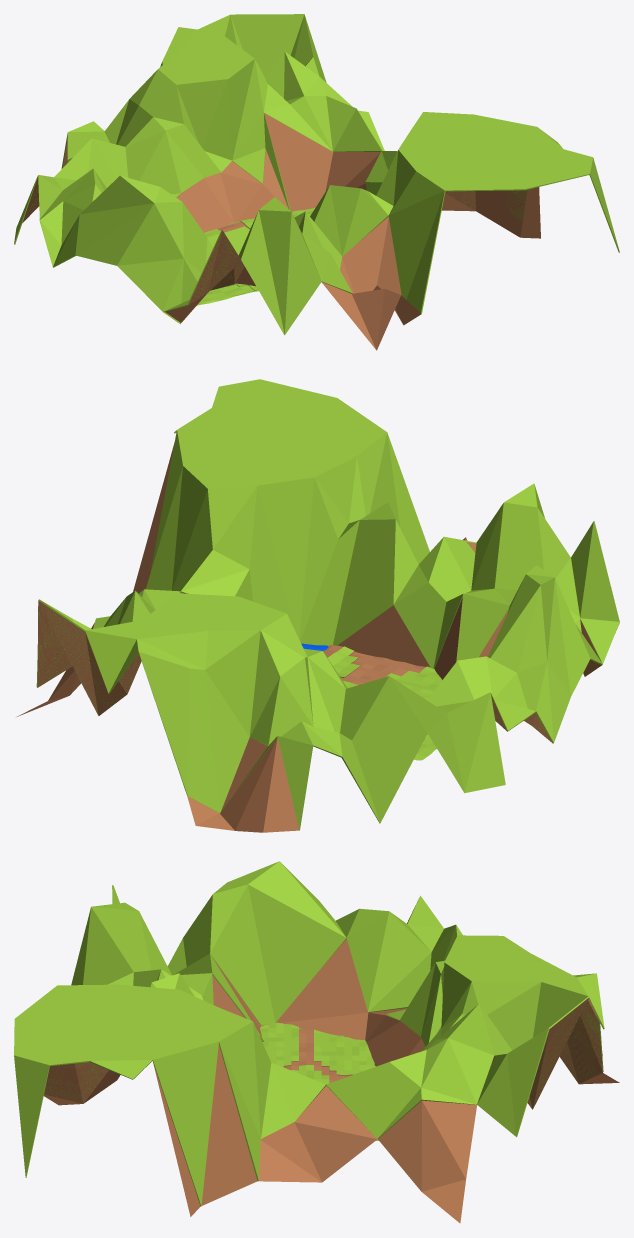
The model's file is Meadow.fbx.
3 views of the same model, one above another, from view 1: azimuth 30°, elevation 25°; view 2: azimuth 150°, elevation 25°; view 3: azimuth 270°, elevation 25° (orthographic). The views are drawn at different scales.
Visible parts, largest first — view 1: MountainTop, MountainBottom, Ground; view 2: MountainTop, MountainBottom, Ground; view 3: MountainTop, MountainBottom, Ground.
Boxes of the visible parts, bbox=[...] form: MountainTop: bbox=[14, 14, 619, 335]; MountainBottom: bbox=[22, 113, 540, 350]; Ground: bbox=[197, 207, 315, 305]; MountainTop: bbox=[36, 379, 619, 830]; MountainBottom: bbox=[17, 432, 601, 832]; Ground: bbox=[323, 645, 442, 760]; MountainTop: bbox=[14, 861, 604, 1206]; MountainBottom: bbox=[43, 921, 619, 1223]; Ground: bbox=[260, 1022, 378, 1140].
Bounding box in the file's own units: 79.24 × 25.76 × 85.74.
